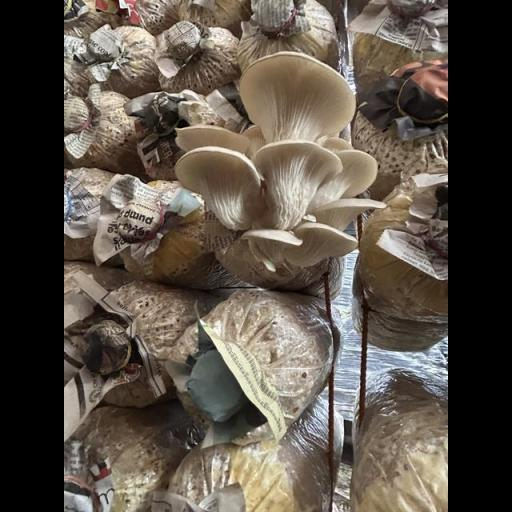White Oyster Mushroom: (168, 39, 406, 273)
